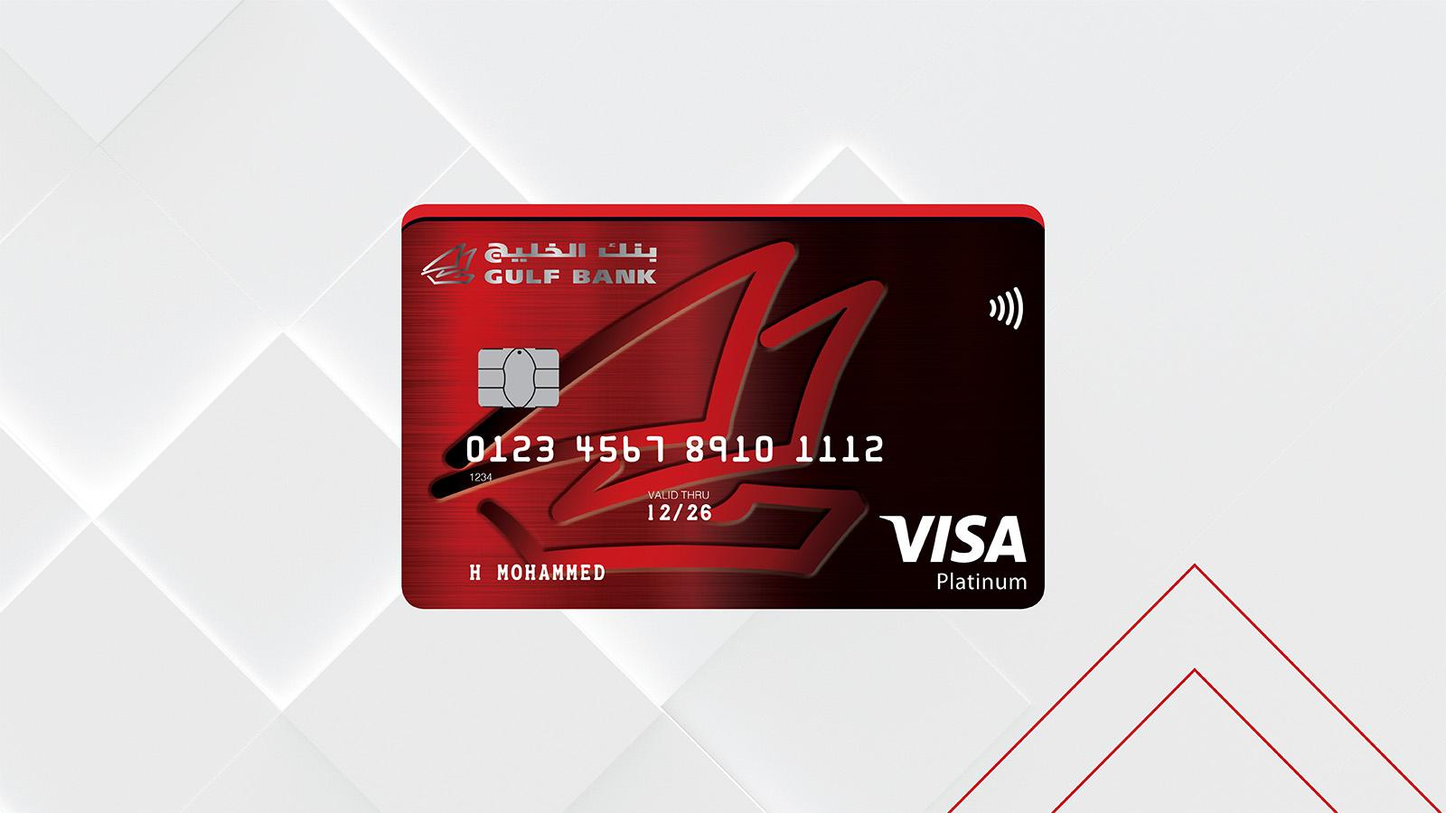Credit_card: (402, 204, 1043, 608)
